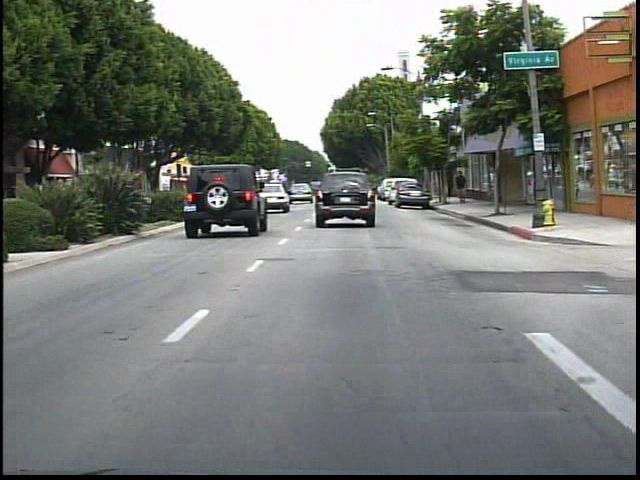person: (451, 169, 471, 208)
